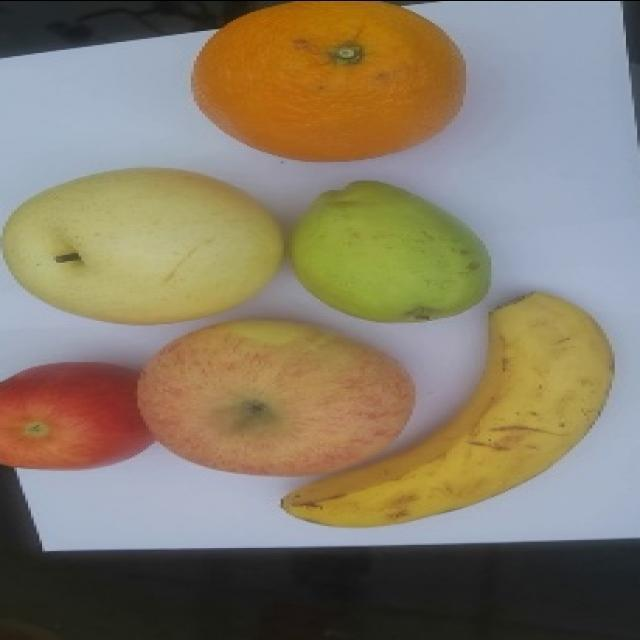Apple: (136, 317, 415, 477), (0, 360, 154, 470)
Banana: (279, 290, 614, 528)
Orange: (190, 0, 467, 163)
